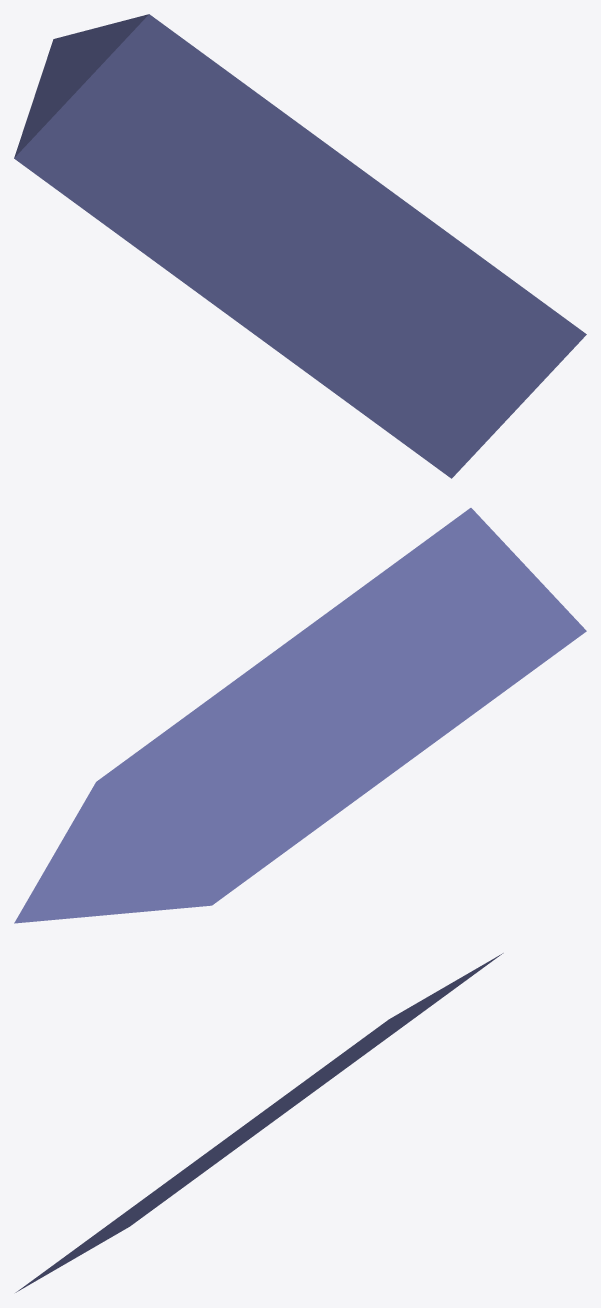
Rendered from M03_ControlTower_1st_Floor_StairPoly.glb.
3 renders of one model, top to bottom at view 1: azimuth 30°, elevation 25°; view 2: azimuth 150°, elevation 25°; view 3: azimuth 330°, elevation 25°, orthographic. The views are drawn at different scales.
Visible parts, largest first — view 1: M03_CONTROLTOWER_1ST_FLOOR_STAIRPOLY; view 2: M03_CONTROLTOWER_1ST_FLOOR_STAIRPOLY; view 3: M03_CONTROLTOWER_1ST_FLOOR_STAIRPOLY.
Boxes of the visible parts, x1=… form: M03_CONTROLTOWER_1ST_FLOOR_STAIRPOLY: x1=14, y1=14, x2=586, y2=478; M03_CONTROLTOWER_1ST_FLOOR_STAIRPOLY: x1=14, y1=508, x2=586, y2=923; M03_CONTROLTOWER_1ST_FLOOR_STAIRPOLY: x1=15, y1=953, x2=503, y2=1292.
Size of the model in its own units: 0.357 by 0.281 by 2.44.
